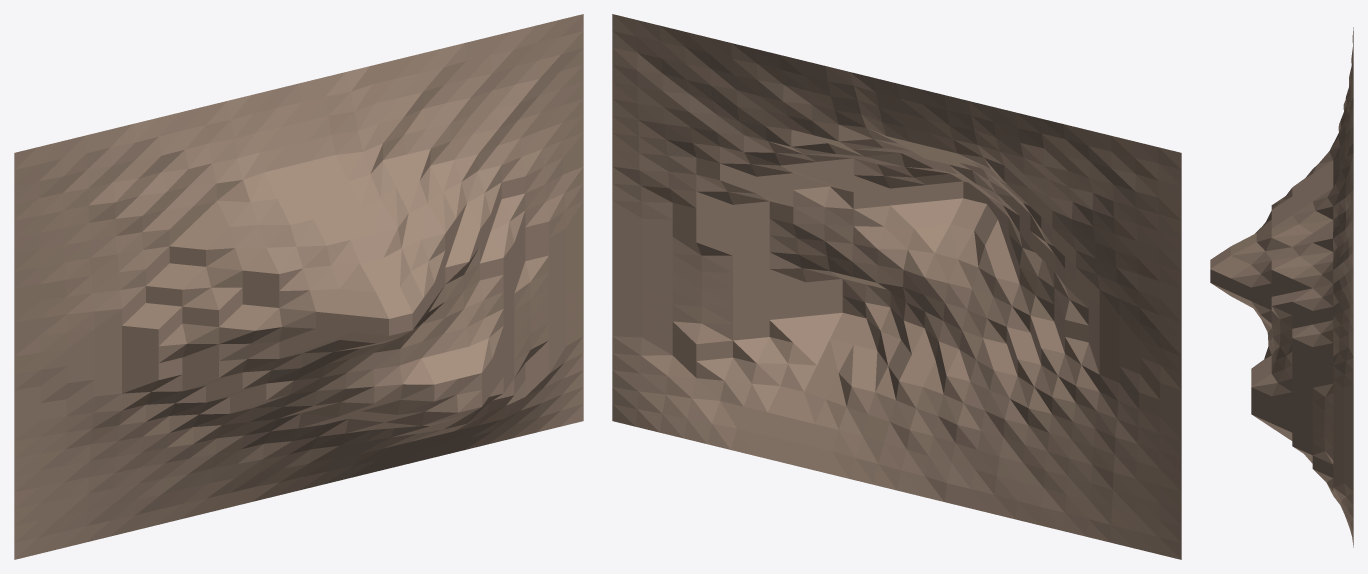
The model's file is input.gltf.
3 renders of one model, left to right at view 1: azimuth 30°, elevation 25°; view 2: azimuth 150°, elevation 25°; view 3: azimuth 270°, elevation 25°, orthographic. The views are drawn at different scales.
Size of the model in its own units: 1277 by 873 by 350.
